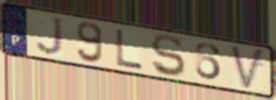6: (194, 42, 224, 83)
9: (75, 21, 104, 65)
J: (35, 16, 66, 58)
L: (114, 27, 145, 71)
S: (150, 33, 188, 79)
V: (229, 44, 267, 93)
